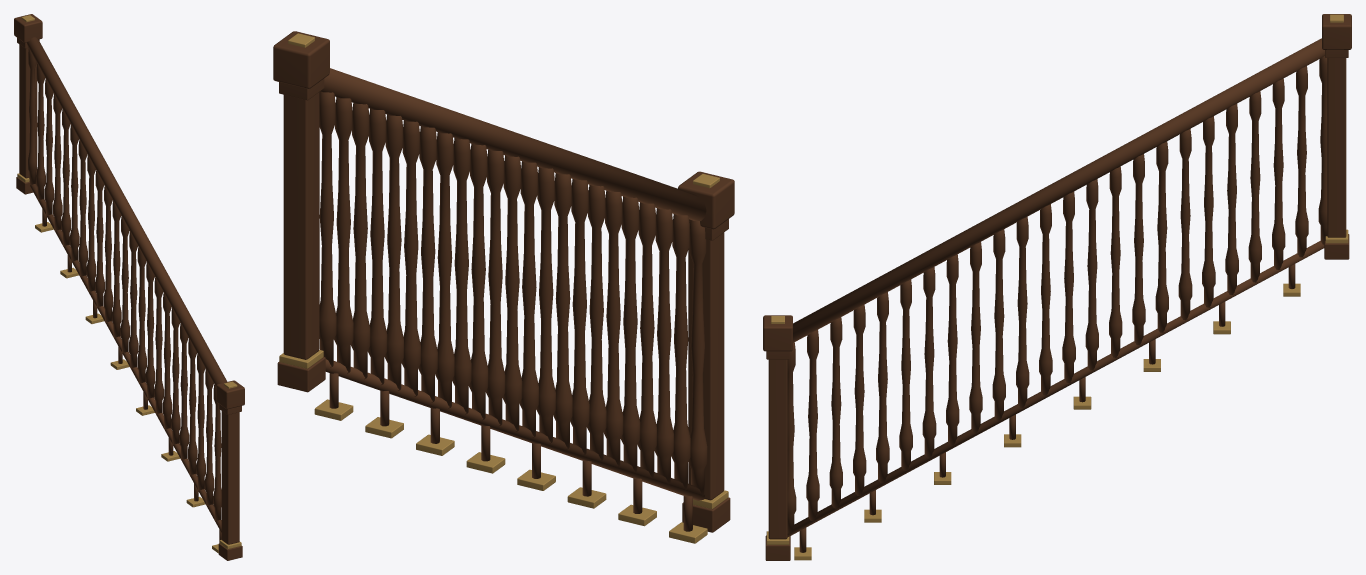
The model's file is rpg-mansion-stair-guard-nine-riser-01.glb.
The picture shows the model from 3 angles, left to right: view 1: azimuth 30°, elevation 25°; view 2: azimuth 150°, elevation 25°; view 3: azimuth 270°, elevation 25°; orthographic projection. The views are drawn at different scales.
Parts seen in each view (by area): view 1: rpg-mansion-stair-guard-nine-riser-01; view 2: rpg-mansion-stair-guard-nine-riser-01; view 3: rpg-mansion-stair-guard-nine-riser-01.
Boxes of the visible parts, <box> form: rpg-mansion-stair-guard-nine-riser-01: <box>14,14,244,560</box>; rpg-mansion-stair-guard-nine-riser-01: <box>273,31,734,543</box>; rpg-mansion-stair-guard-nine-riser-01: <box>763,14,1351,560</box>.
Bounding box in the file's own units: 0.12 × 2.38 × 2.36.
